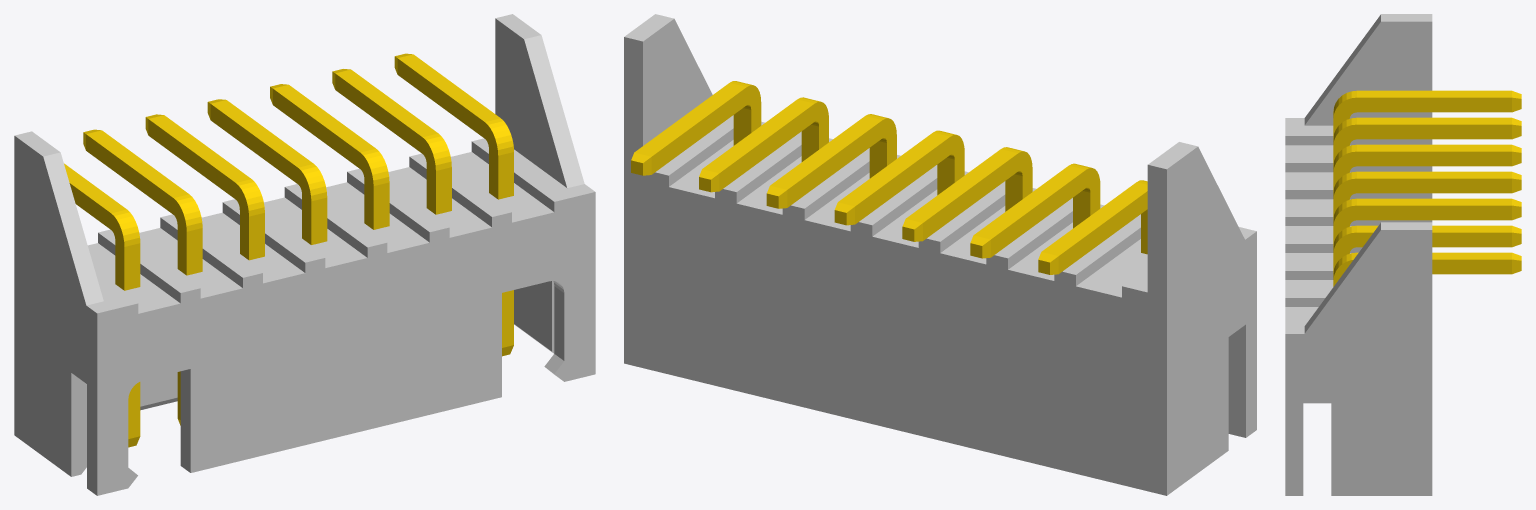
File: DS1069-7 CWF-7R.obj
3 renders of one model, left to right at view 1: azimuth 30°, elevation 25°; view 2: azimuth 150°, elevation 25°; view 3: azimuth 270°, elevation 25°, orthographic. The views are drawn at different scales.
Visible parts, largest first — view 1: DS1069-7_CWF-7R; view 2: DS1069-7_CWF-7R; view 3: DS1069-7_CWF-7R.
Boxes of the visible parts, <box> form: DS1069-7_CWF-7R: <box>14,14,595,495</box>; DS1069-7_CWF-7R: <box>624,14,1256,495</box>; DS1069-7_CWF-7R: <box>1285,14,1521,495</box>.
Size of the model in its own units: 0.0256 by 0.0147 by 0.0118.
